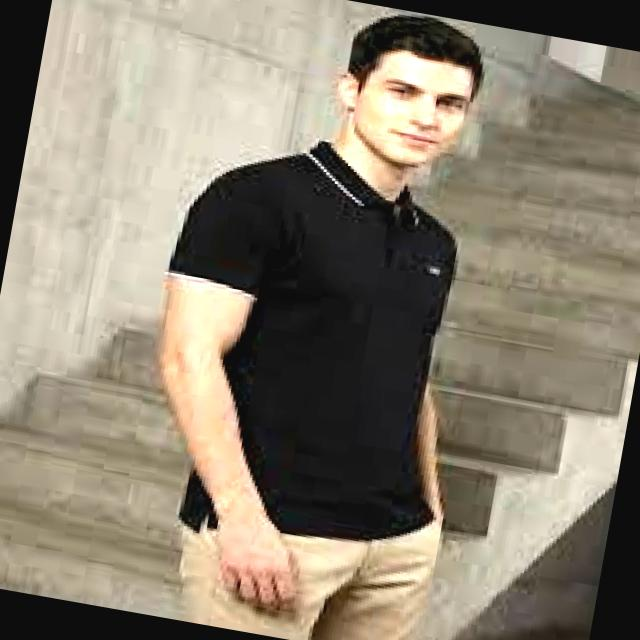face: (338, 50, 473, 168)
lower-wear: (179, 520, 444, 639)
top-wear: (169, 142, 457, 539)
